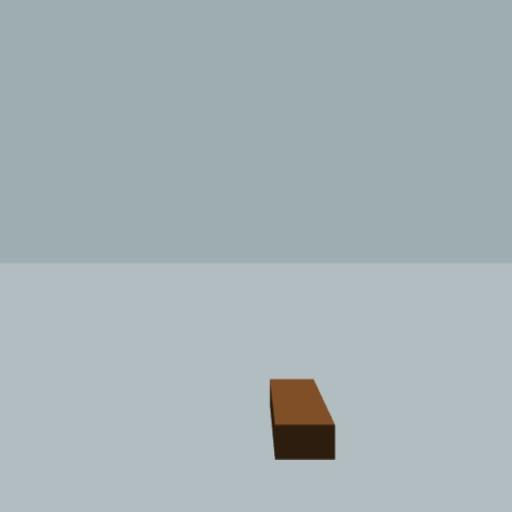debris_container: (266, 376, 338, 462)
